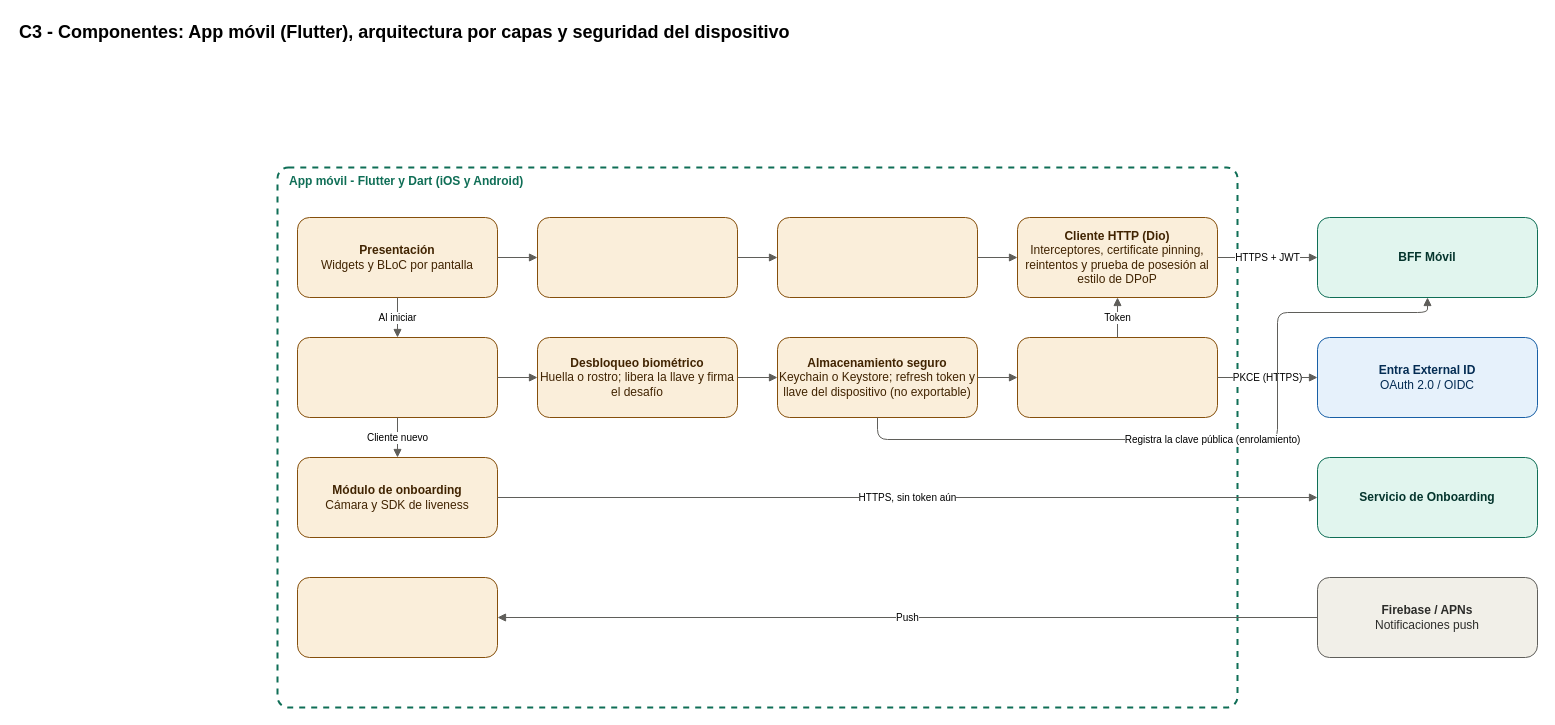
Image size: 1555x725. Some labels were removed from this diagram. The shapes that lost their labels are listed below. From the top down, each one's centre as x and y in pixels, then its label:
At (637,257): "Casos de uso Reglas de la app, sin UI".
At (877,257): "Repositorios Contratos de datos y caché local cifrada".
At (397,377): "Integridad del dispositivo Root o jailbreak y atestación; si es seguro, continúa".
At (1117,377): "Autenticación AppAuth, Code + PKCE; renueva el token con rotación".
At (397,617): "Notificaciones push Sin datos sensibles en el mensaje".
